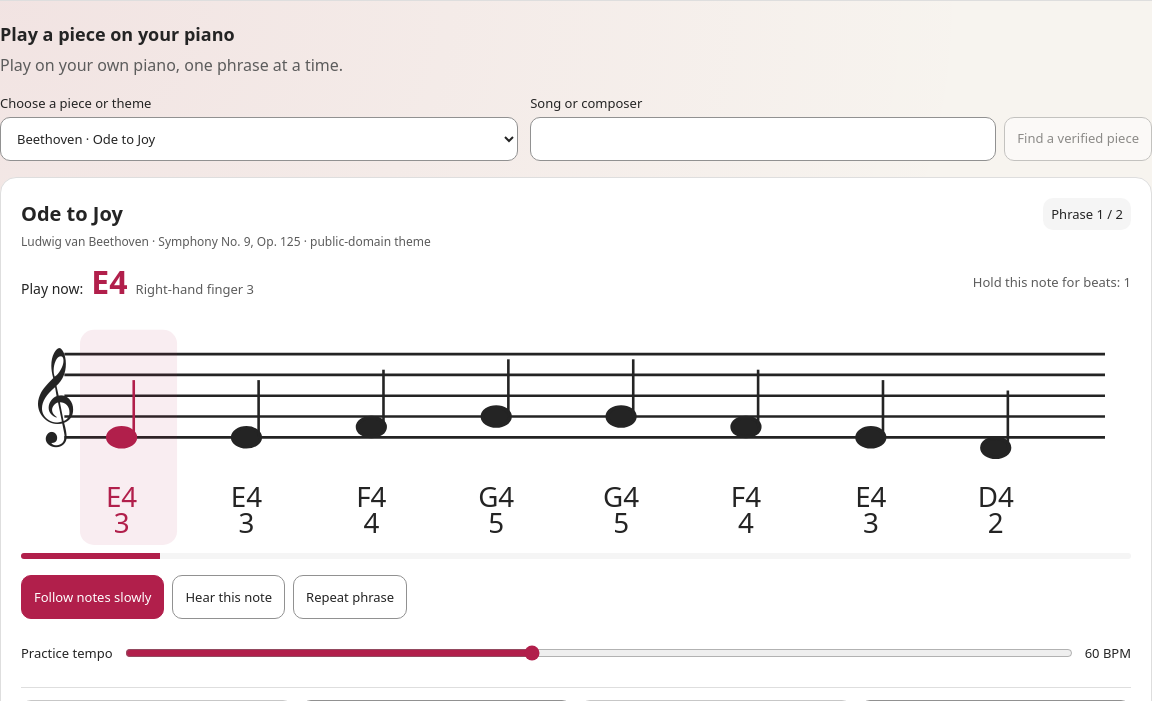
Test case: real piano phrase lessons › finds a verified theme by composer and switches its visible staff and current note
expect the text "Play now: E4 Right-hand finger 3" is shown: met, box [21,263,254,301]
In the search field labelled "Song or composer": (763, 139) [530,117,996,161], type "Mozart"
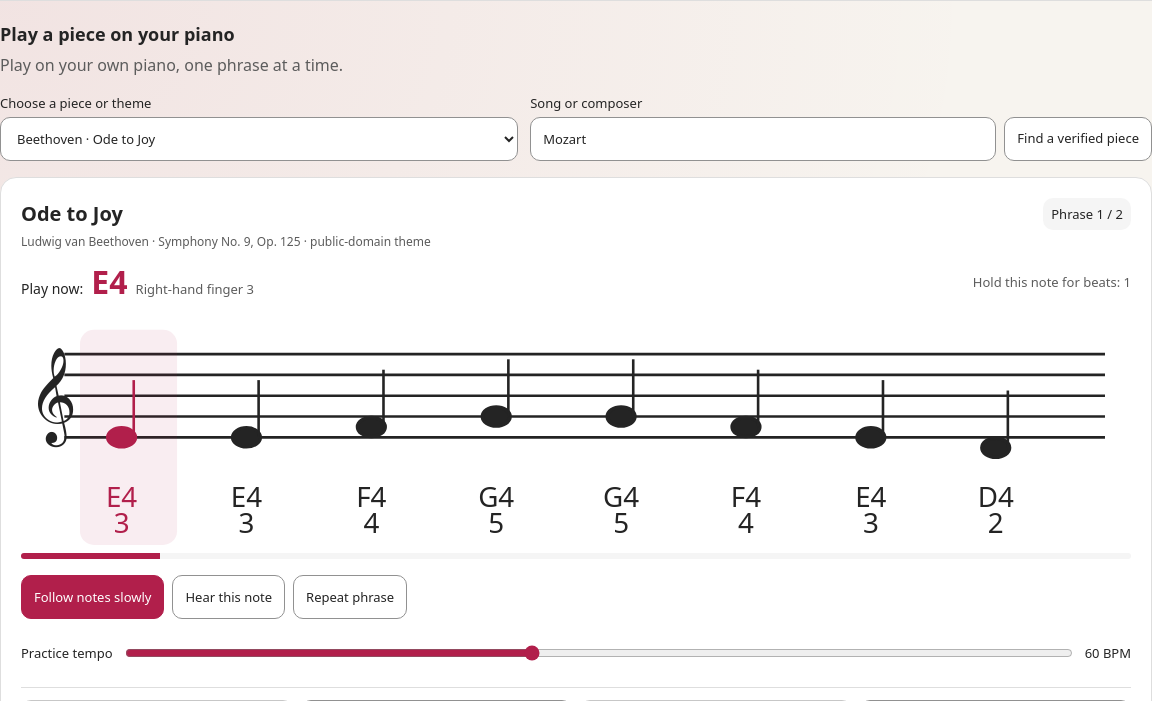
Click the button "Find a verified piece": (1078, 139) [1004,117,1151,161]
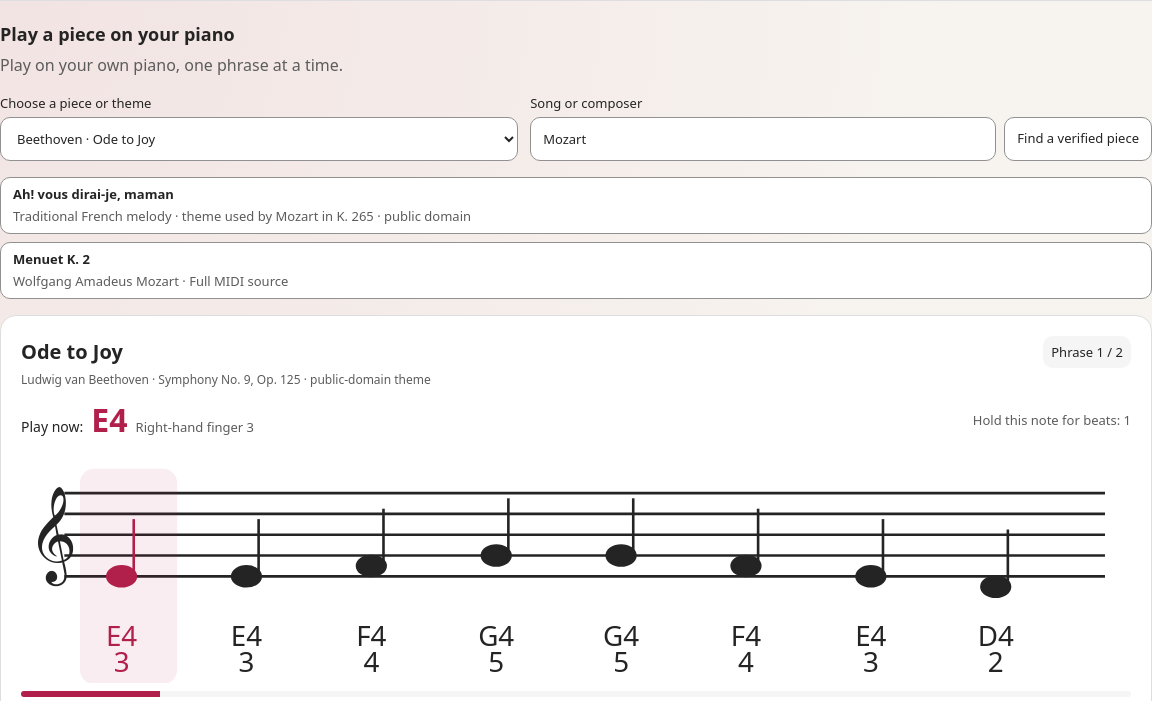
Click the button "Ah! vous dirai-je, maman": (93, 194) [0,177,1151,234]
(page scrolled)
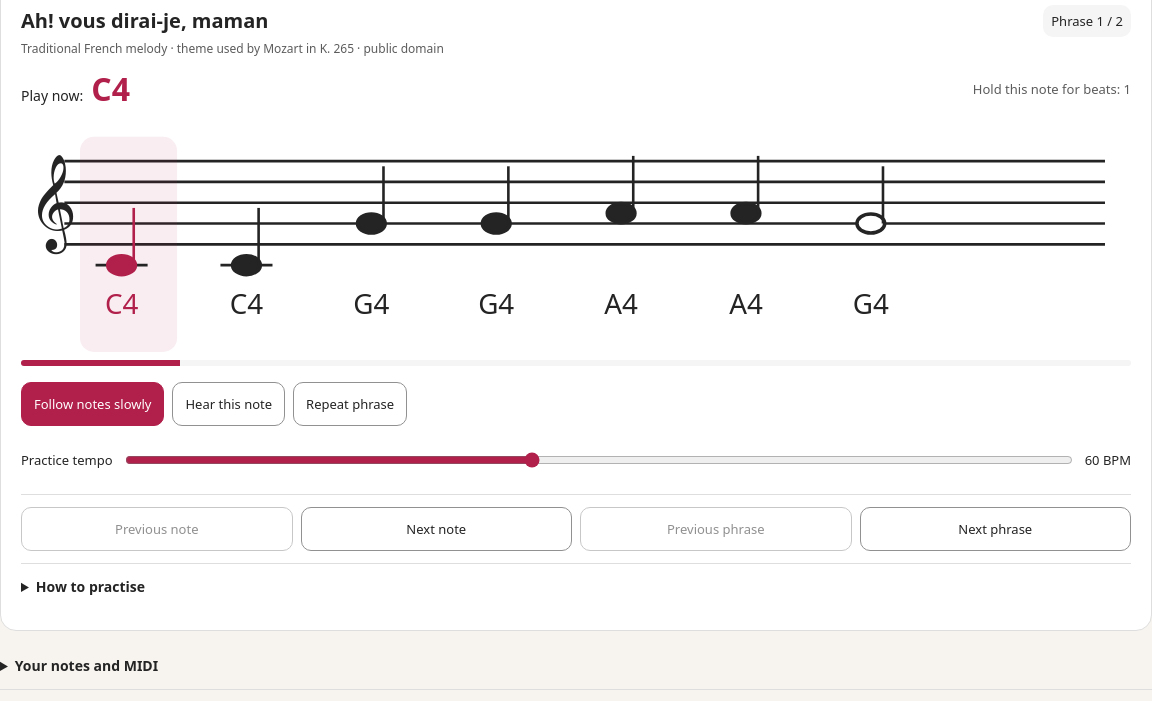
expect the text "Play now: C4" is shown: met, box [21,70,130,108]
Click the button "Next note": (436, 529) [300,507,572,551]
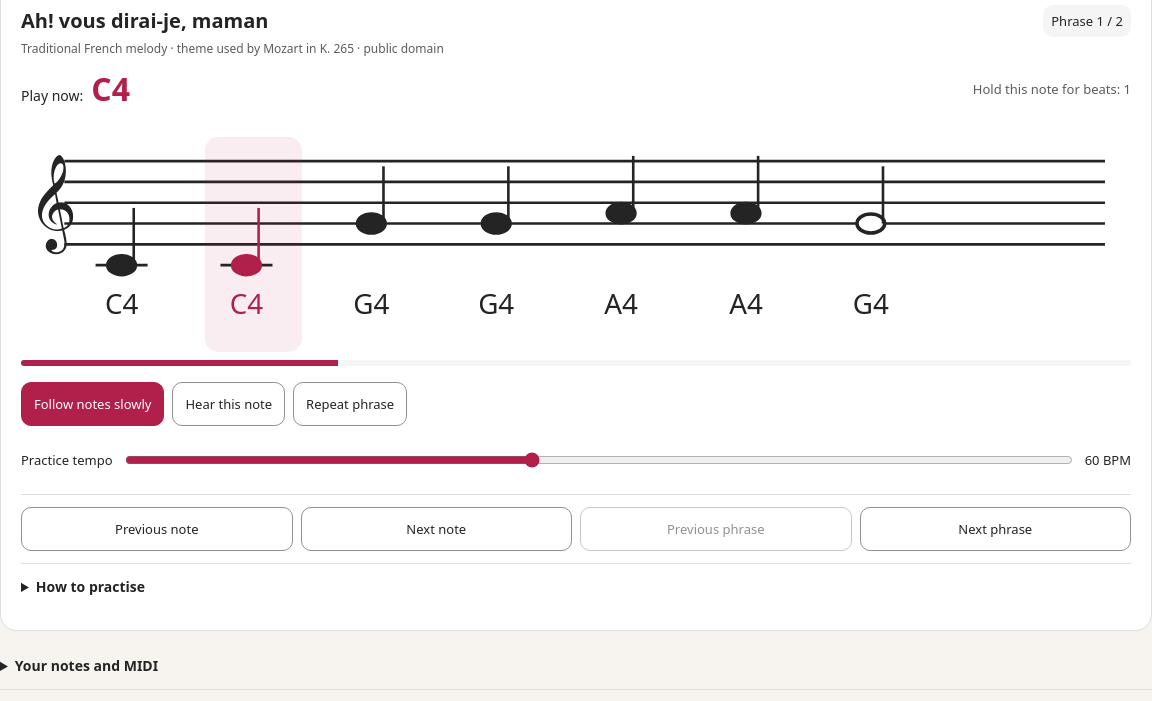
Click the button "Next note": (436, 529) [300,507,572,551]
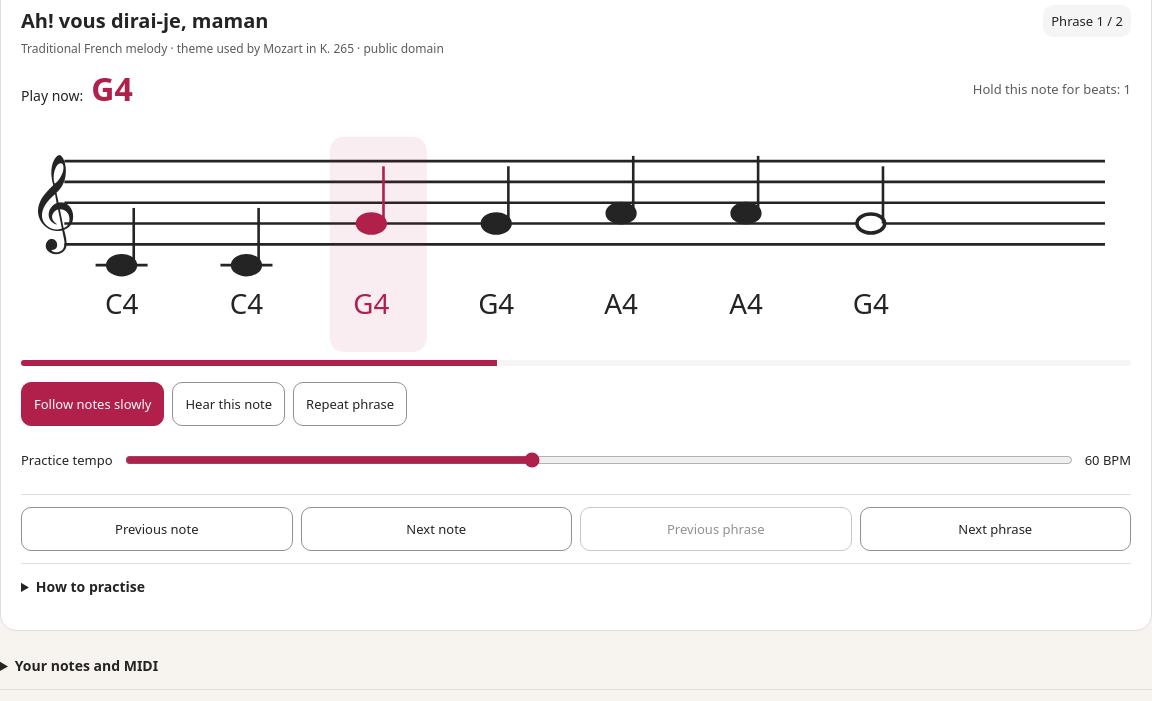
expect the text "Play now: G4" is shown: met, box [21,70,133,108]
Click the button "Repeat phrase": (350, 404) [293,382,407,426]
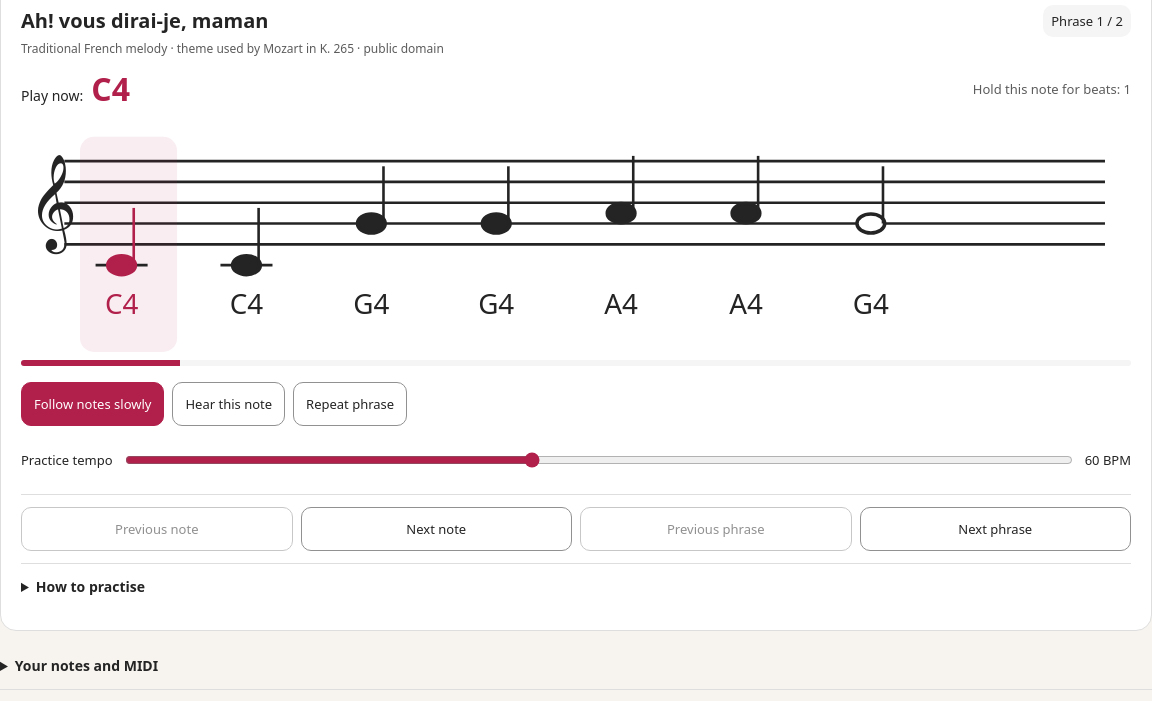
expect the text "Play now: C4" is shown: met, box [21,70,130,108]
